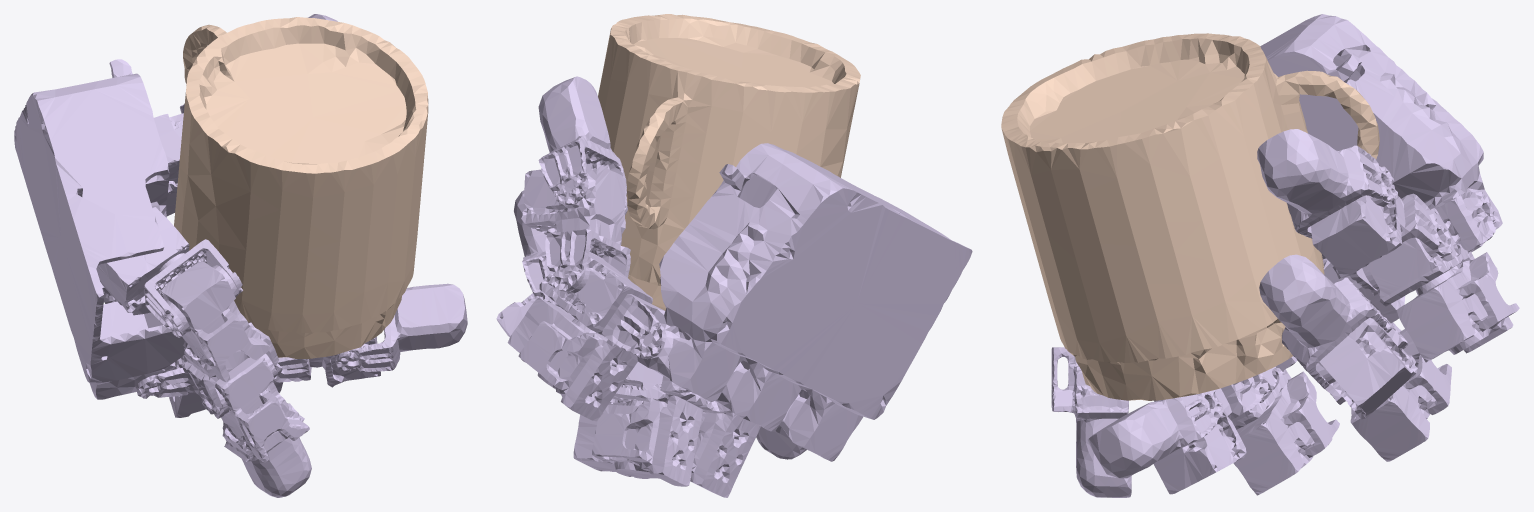
The model's file is d8c1ad87e1233b-closed.glb.
3 renders of one model, left to right at view 1: azimuth 30°, elevation 25°; view 2: azimuth 150°, elevation 25°; view 3: azimuth 270°, elevation 25°, orthographic. The views are drawn at different scales.
Parts seen in each view (by area): view 1: world, LEAP_hand; view 2: LEAP_hand, world; view 3: LEAP_hand, world.
Boxes of the visible parts, x1,y1,x2,y2 form: world: [174, 17, 428, 358]; LEAP_hand: [14, 14, 467, 497]; LEAP_hand: [496, 76, 972, 497]; world: [598, 14, 860, 310]; LEAP_hand: [1051, 14, 1519, 497]; world: [1001, 33, 1379, 400].
Size of the model in its own units: 0.1827 by 0.1907 by 0.1953.
